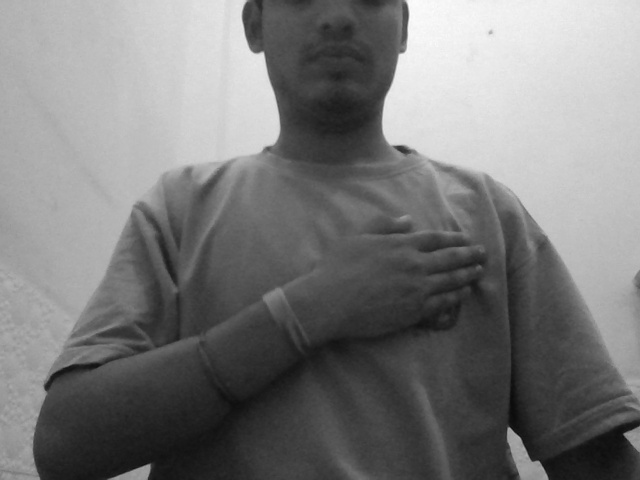Sorry: (290, 203, 533, 366)
